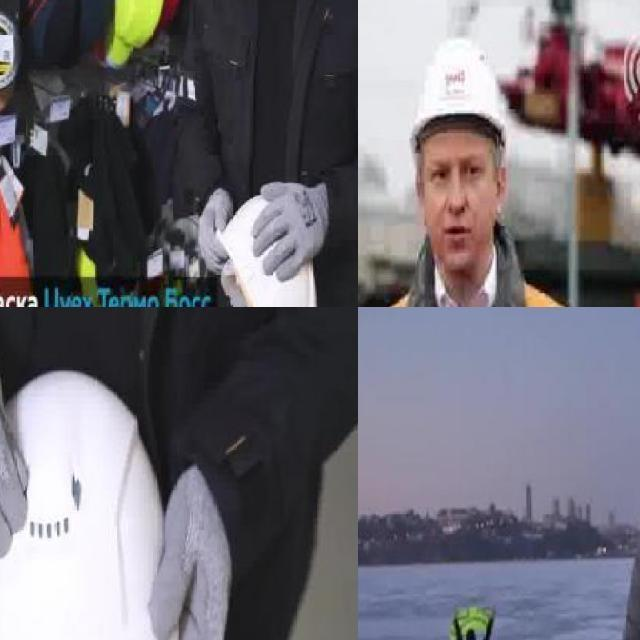apron: (146, 461, 233, 640), (250, 179, 332, 284), (198, 188, 231, 274)
